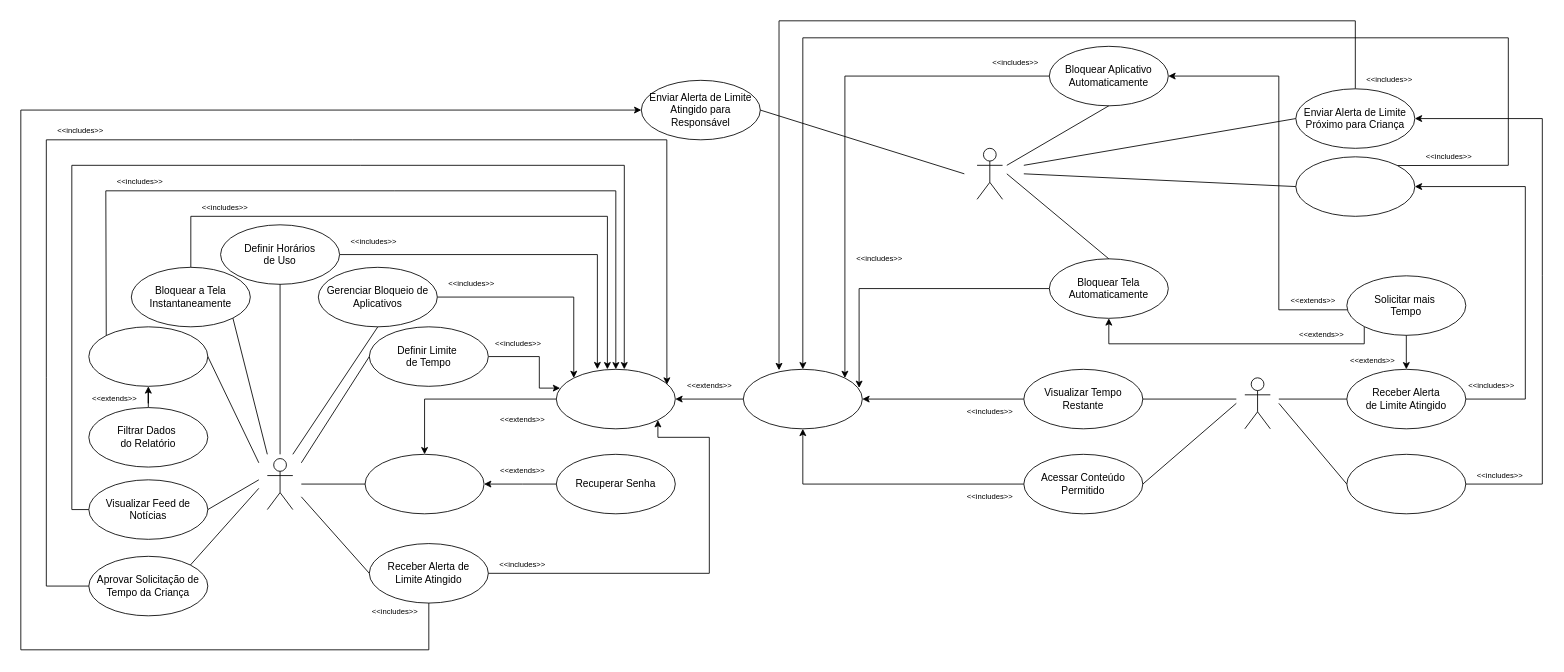
The diagram is 1564 pixels wide and 672 high, and some of its shapes have lost their labels. Here are the shapes that lost their labels. From the top down, the box of each, then its label:
(976, 147, 1003, 199): Aplicação
(1295, 156, 1415, 216): Exibir Alerta de Limite Atingido para Criança
(88, 326, 208, 386): Visualizar Relatório de Uso
(555, 368, 675, 429): Autenticar Responsável
(742, 368, 862, 429): Vincular Perfil da Criança
(1244, 377, 1270, 429): Criança
(266, 458, 293, 510): Responsável
(364, 453, 484, 514): Cadastrar Conta do Responsável
(1346, 453, 1466, 514): Receber Alerta de Limite Próximo
